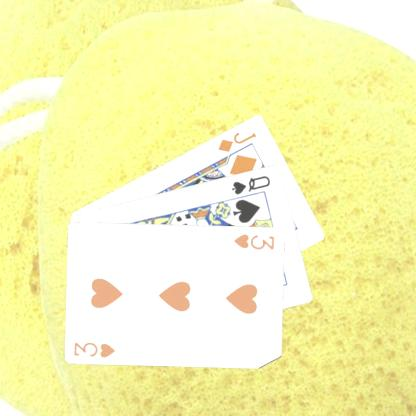3H: (231, 231, 276, 251), (72, 338, 117, 358)
JD: (215, 128, 258, 154)
QS: (229, 172, 272, 196)
